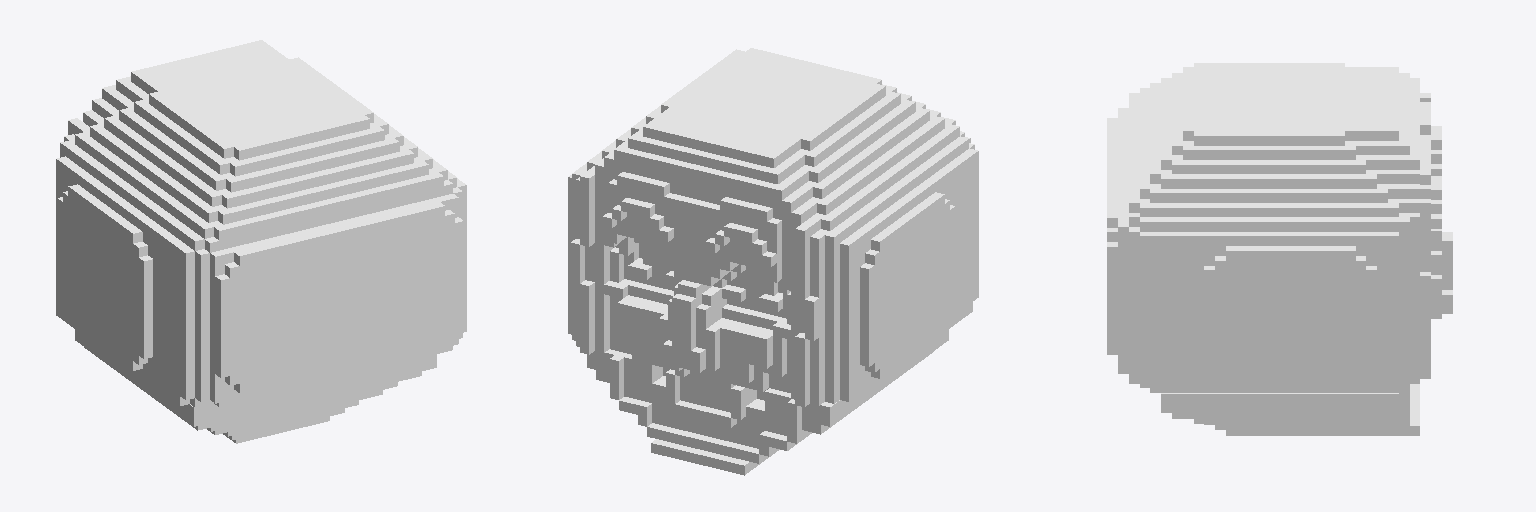
The model's file is tempRobot.obj.
3 renders of one model, left to right at view 1: azimuth 30°, elevation 25°; view 2: azimuth 150°, elevation 25°; view 3: azimuth 270°, elevation 25°, orthographic.
Visible parts, largest first — view 1: object 1; view 2: object 1; view 3: object 1.
Boxes of the visible parts, x1=… form: object 1: x1=56, y1=40, x2=466, y2=443; object 1: x1=568, y1=48, x2=978, y2=475; object 1: x1=1107, y1=63, x2=1452, y2=435.
Size of the model in its own units: 3.2 by 3.2 by 3.2.